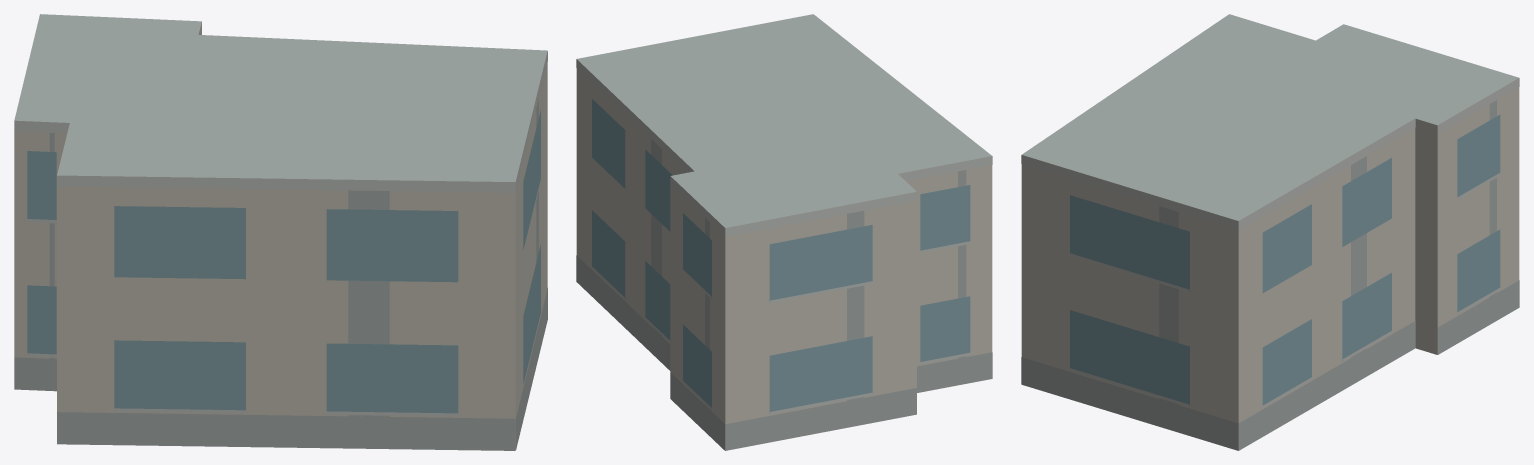
File: residential-43ad3a69-626e-4e9e-b5f7-08011a5a6fa9.glb
3 renders of one model, left to right at view 1: azimuth 30°, elevation 25°; view 2: azimuth 150°, elevation 25°; view 3: azimuth 270°, elevation 25°, orthographic. The views are drawn at different scales.
Visible parts, largest first — view 1: residential-43ad3a69-626e-4e9e-b5f7-08011a5a6fa9.tmp; view 2: residential-43ad3a69-626e-4e9e-b5f7-08011a5a6fa9.tmp; view 3: residential-43ad3a69-626e-4e9e-b5f7-08011a5a6fa9.tmp.
Boxes of the visible parts, x1,y1,x2,y2 form: residential-43ad3a69-626e-4e9e-b5f7-08011a5a6fa9.tmp: (14,14,547,450); residential-43ad3a69-626e-4e9e-b5f7-08011a5a6fa9.tmp: (576,14,992,450); residential-43ad3a69-626e-4e9e-b5f7-08011a5a6fa9.tmp: (1021,14,1519,450).
Size of the model in its own units: 11.8 by 6.1 by 11.99.
